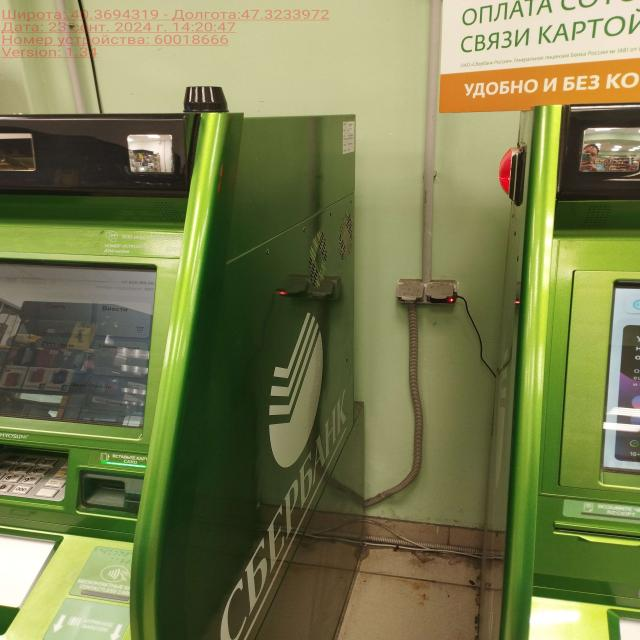bank: (0, 117, 363, 640), (494, 102, 640, 640)
